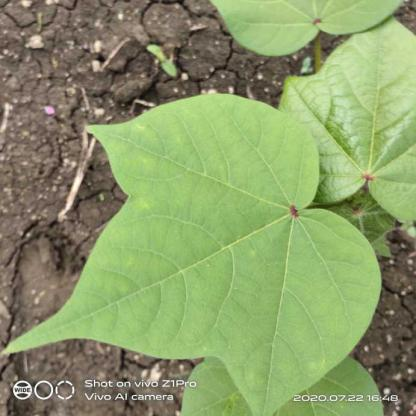cotton: (6, 95, 396, 407)
